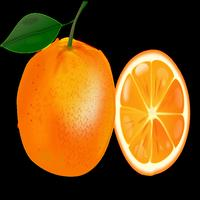orange: (14, 30, 116, 177), (120, 29, 190, 184)
